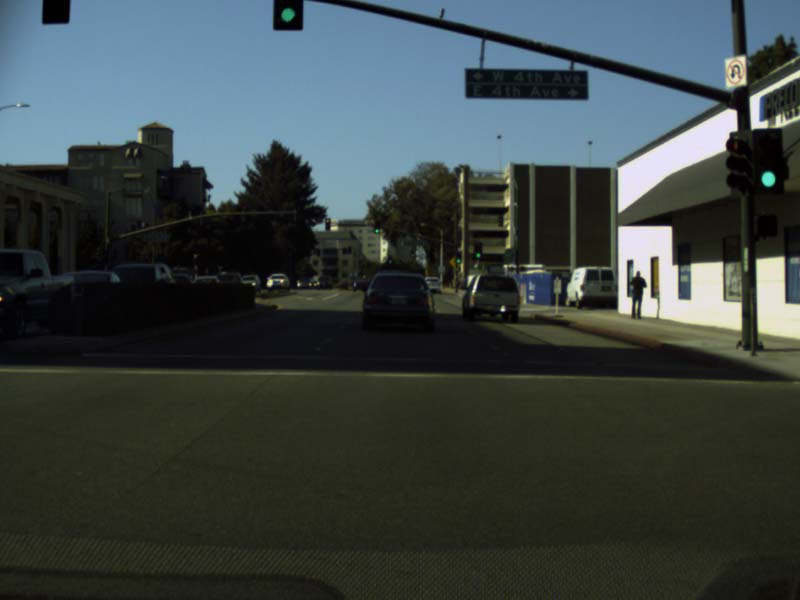Green: (755, 132, 783, 192), (474, 242, 481, 259), (374, 222, 379, 233), (456, 252, 460, 263), (388, 256, 392, 263)
Red: (193, 250, 199, 265), (325, 218, 329, 230)
